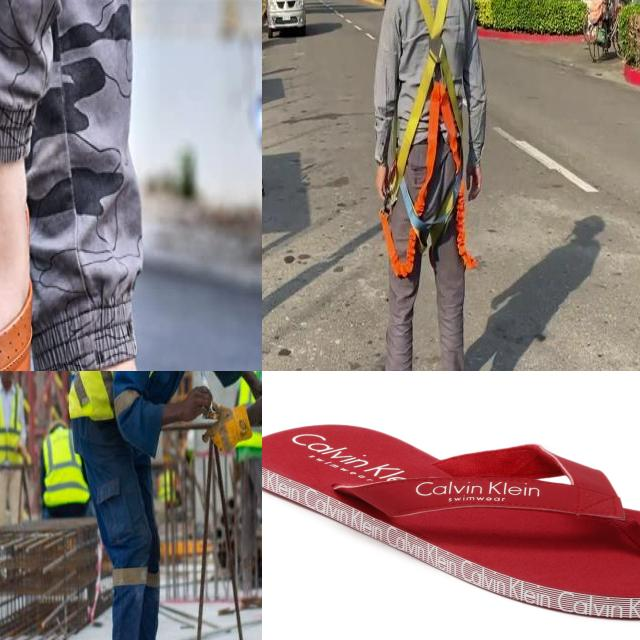Harness: (380, 0, 476, 278)
Sandals: (262, 420, 640, 622)
hand_glove: (206, 400, 254, 457)
person: (42, 371, 239, 640)
vest: (66, 371, 166, 423), (41, 422, 92, 510), (0, 380, 28, 468)
